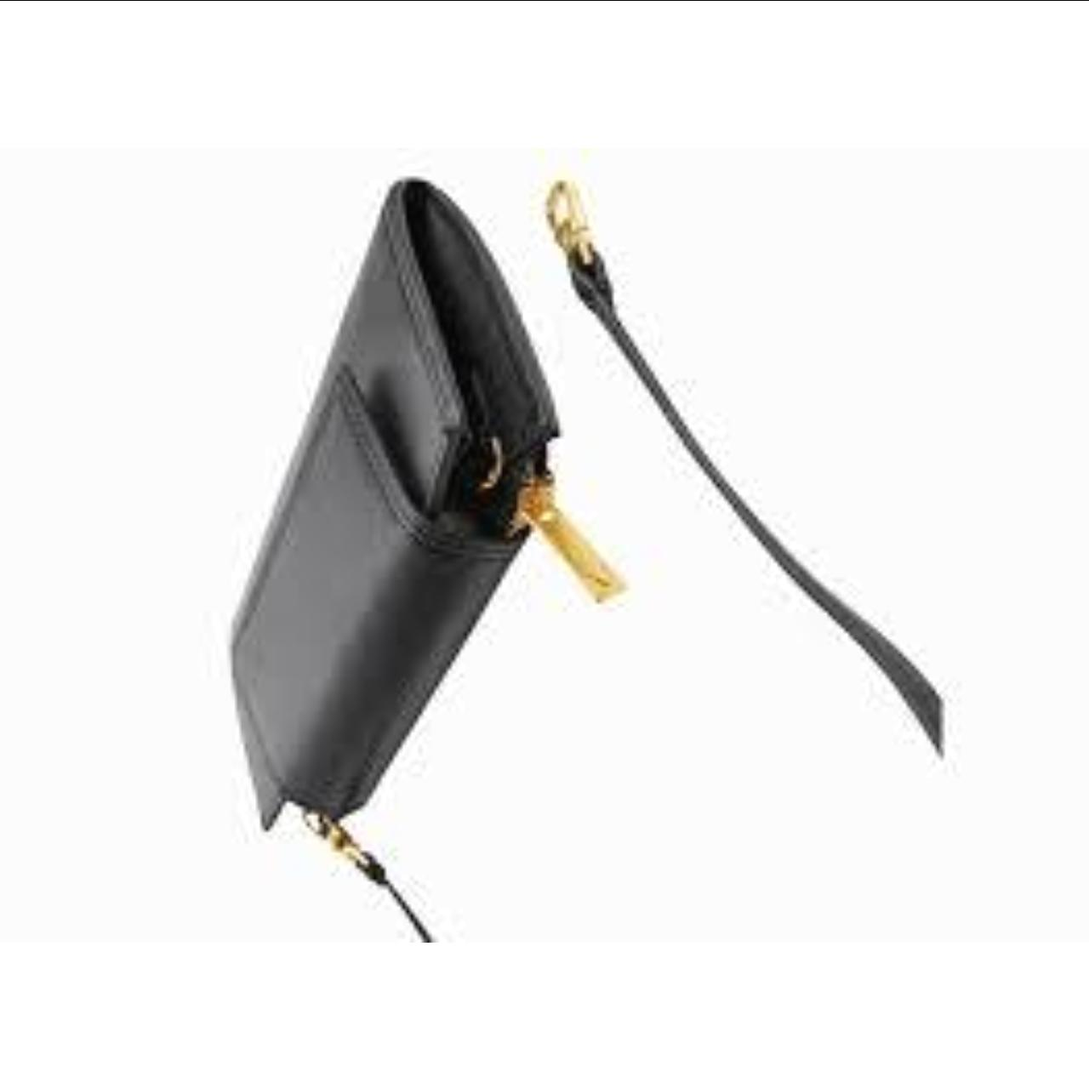wallet: (201, 188, 541, 826)
